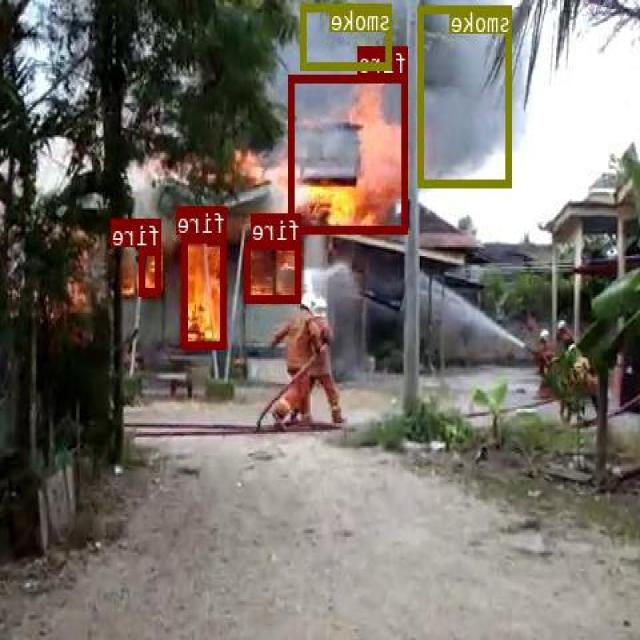fire: (290, 75, 408, 232), (183, 234, 228, 346), (245, 240, 302, 302), (140, 246, 162, 294)
smoke: (418, 5, 512, 186), (303, 3, 392, 68)
